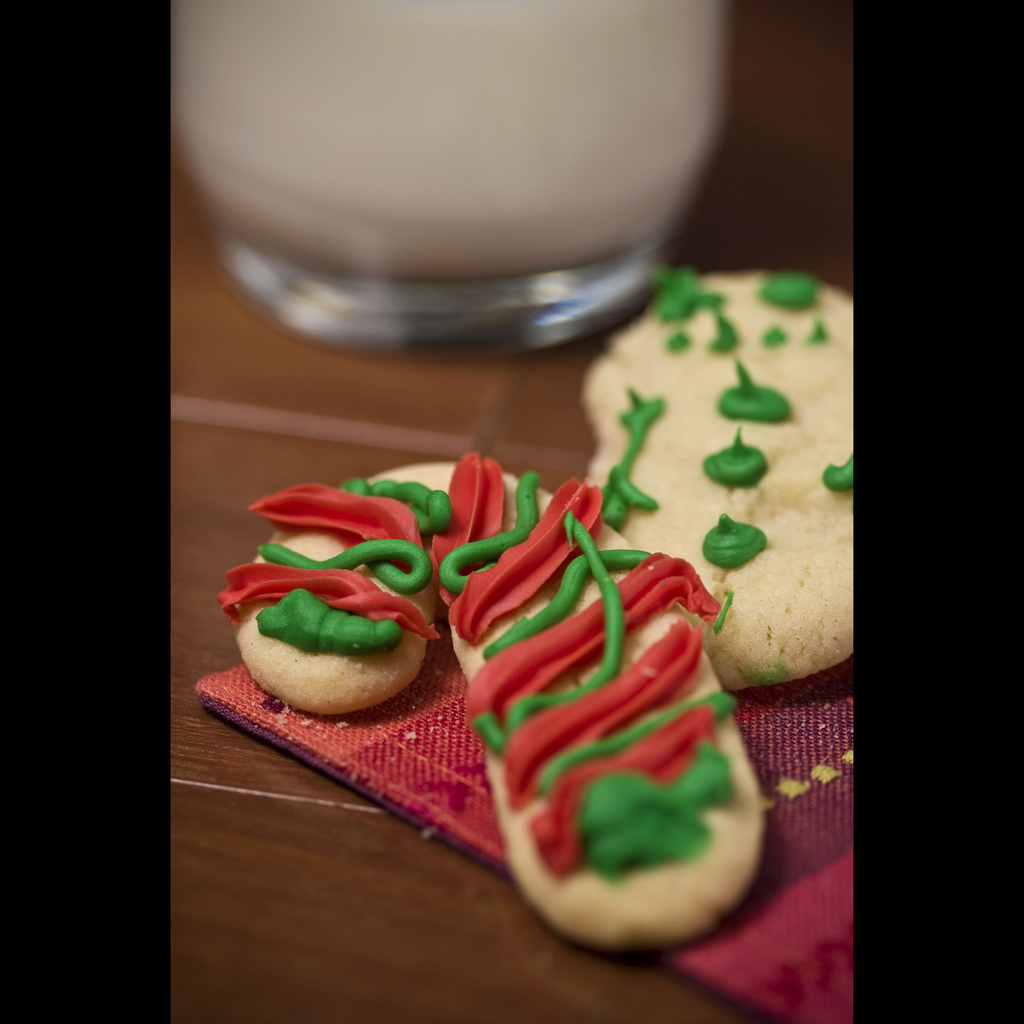slice of bread: (443, 496, 779, 977), (607, 257, 874, 701), (254, 437, 548, 704)
